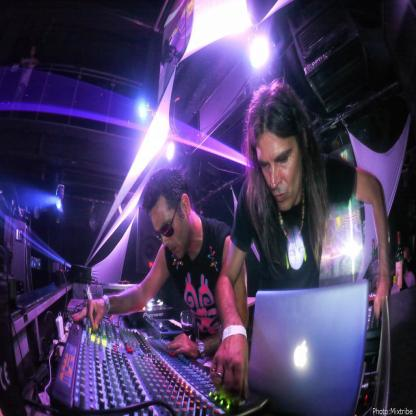board: (247, 280, 378, 414)
